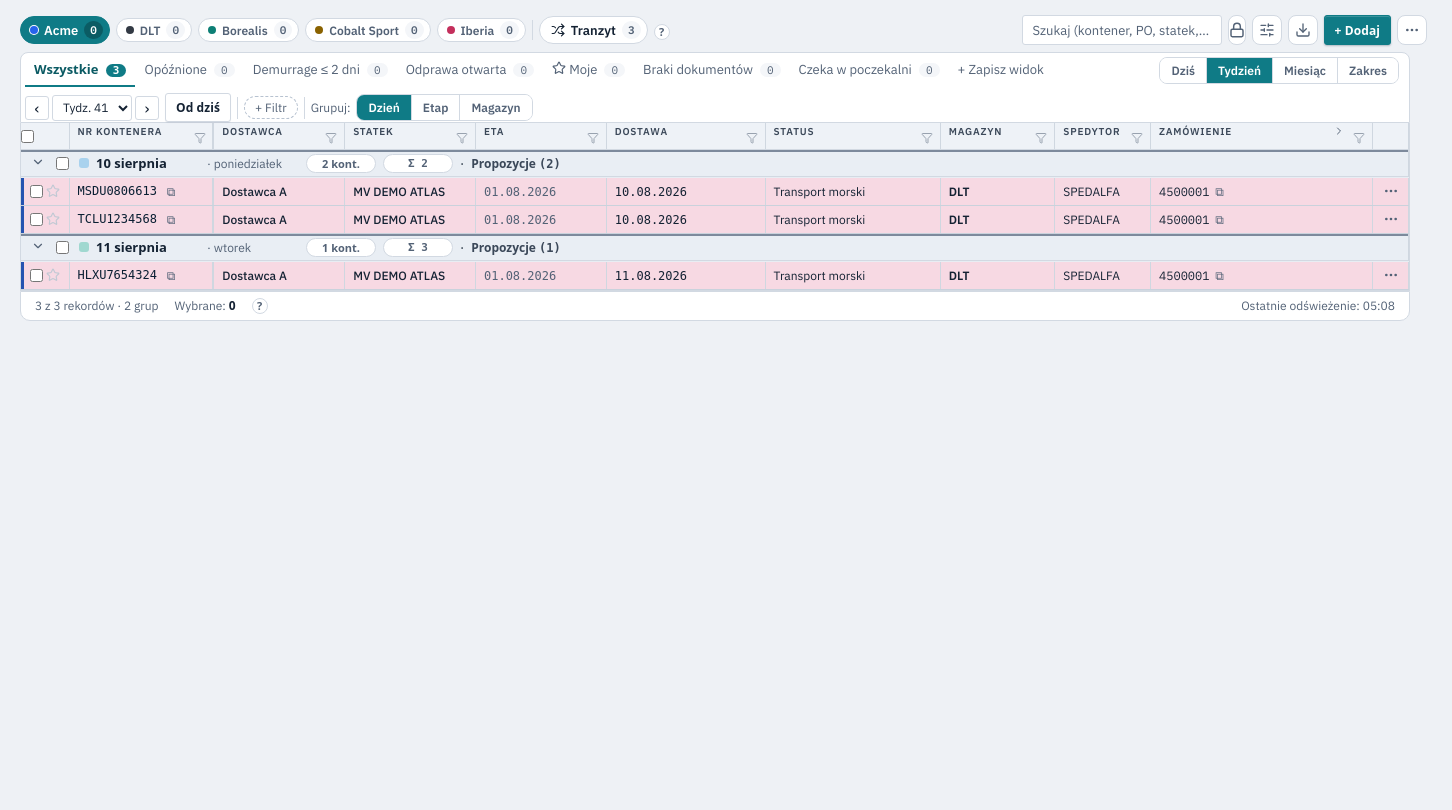
Test: szuflada kontenera › klik w wiersz otwiera szufladę; ‹ › idą po kolejności wierszy; ✕ zamyka
Click the text "TCLU1234568": (117, 219) [78, 212, 157, 226]
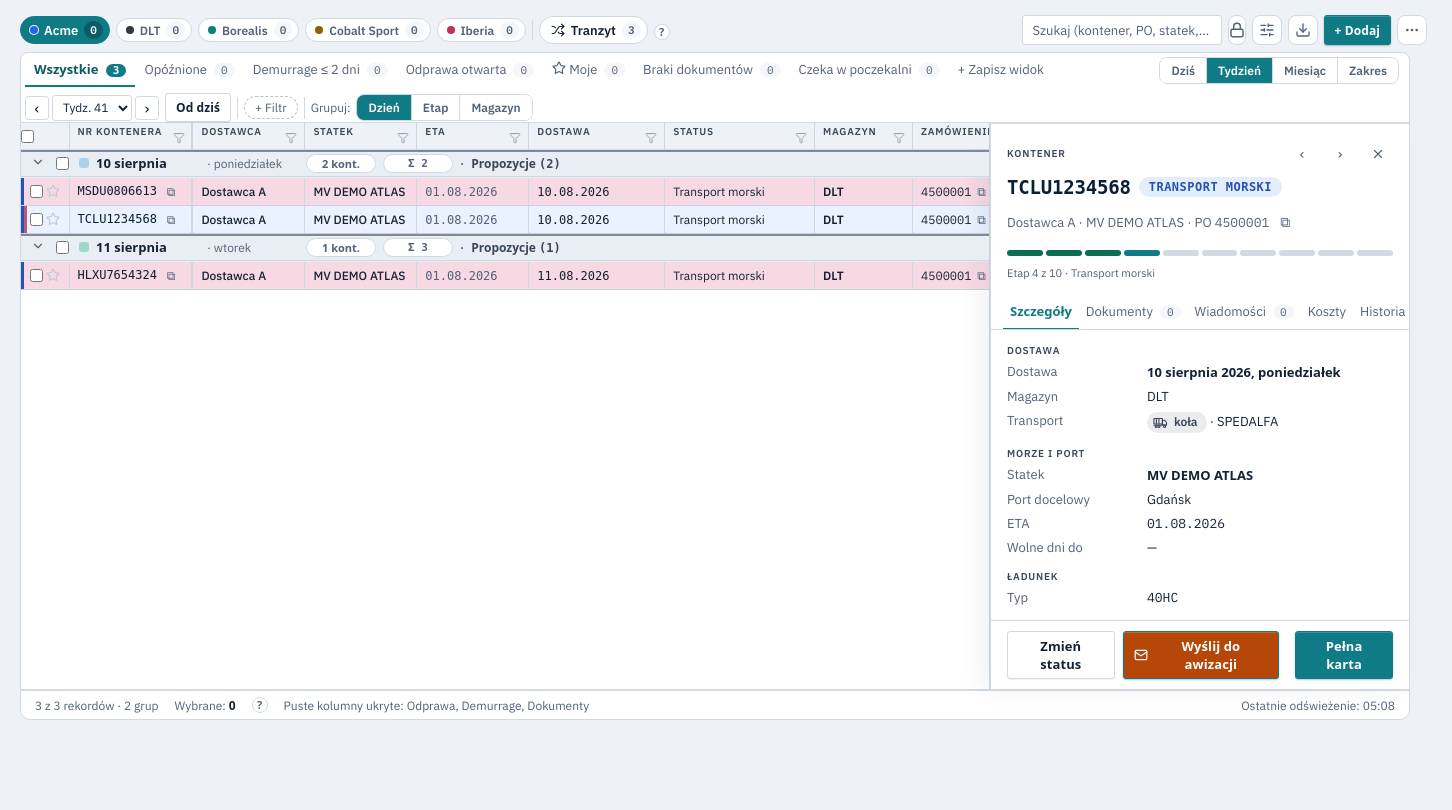
Expected: the text "Port docelowy" is shown, [1007, 491, 1090, 508]
Expected: the element showing "koła · SPEDALFA" is shown, [1147, 412, 1278, 433]
Click the button named "Następny kontener": (1340, 153) [1325, 138, 1355, 168]
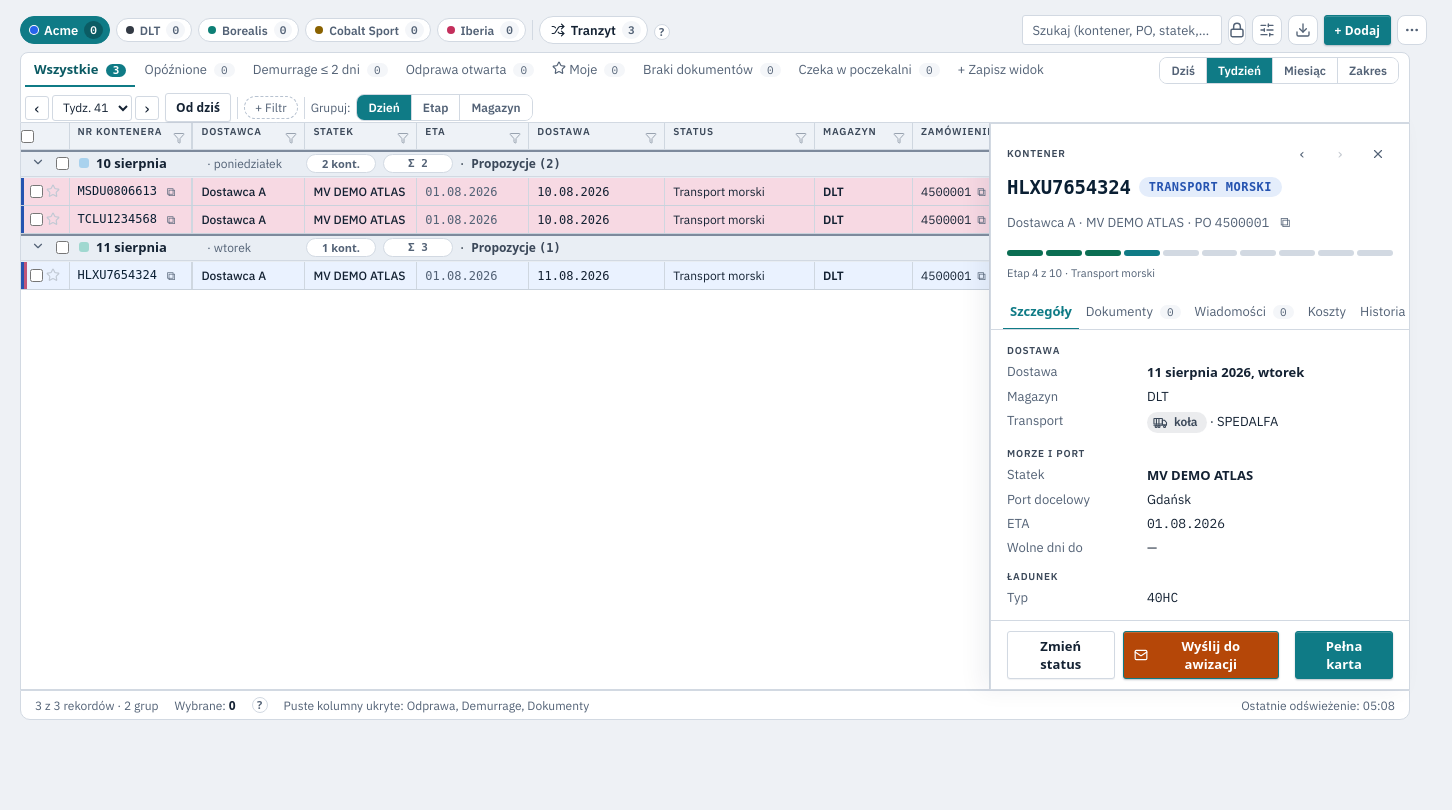
Expected: the text "HLXU7654324" in the row of "11.08.2026" is shown, [78, 268, 157, 282]
Click the button named "Poprzedni kontener": (1302, 153) [1287, 138, 1317, 168]
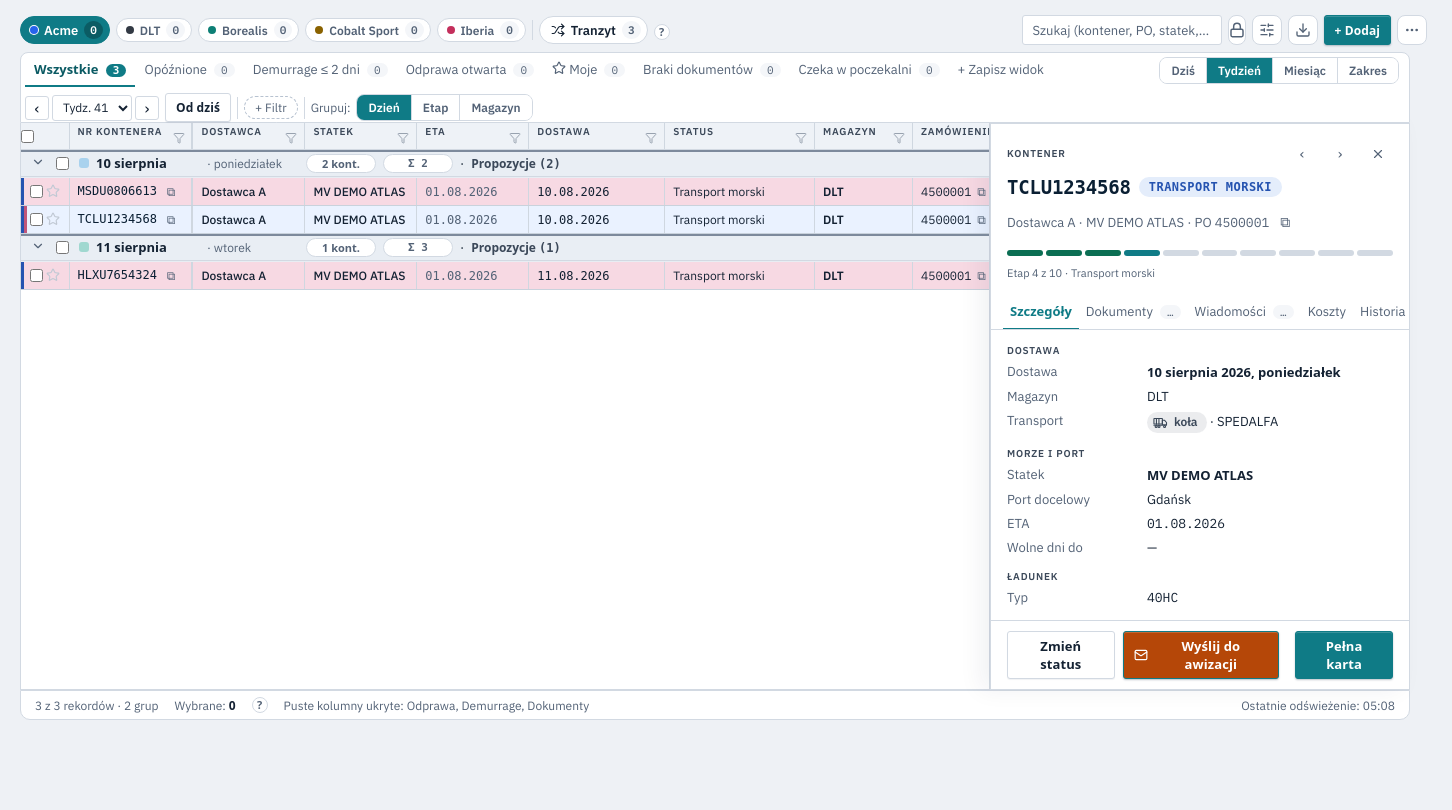
Click the button named "Poprzedni kontener": (1302, 153) [1287, 138, 1317, 168]
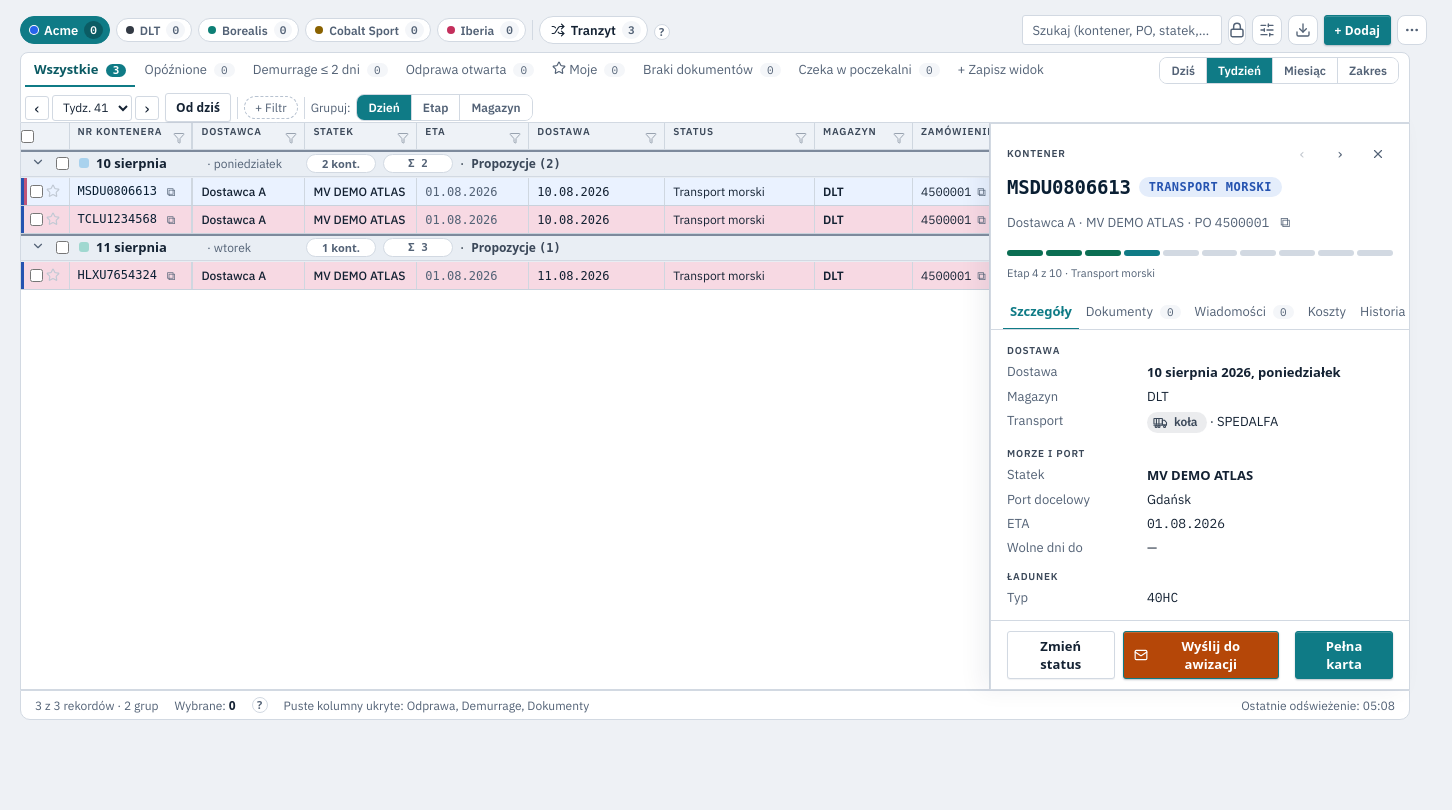
Expected: the text "MSDU0806613" below "2 kont." is shown, [78, 184, 157, 198]
Click the button named "Zamknij": (1378, 153) [1363, 138, 1393, 168]
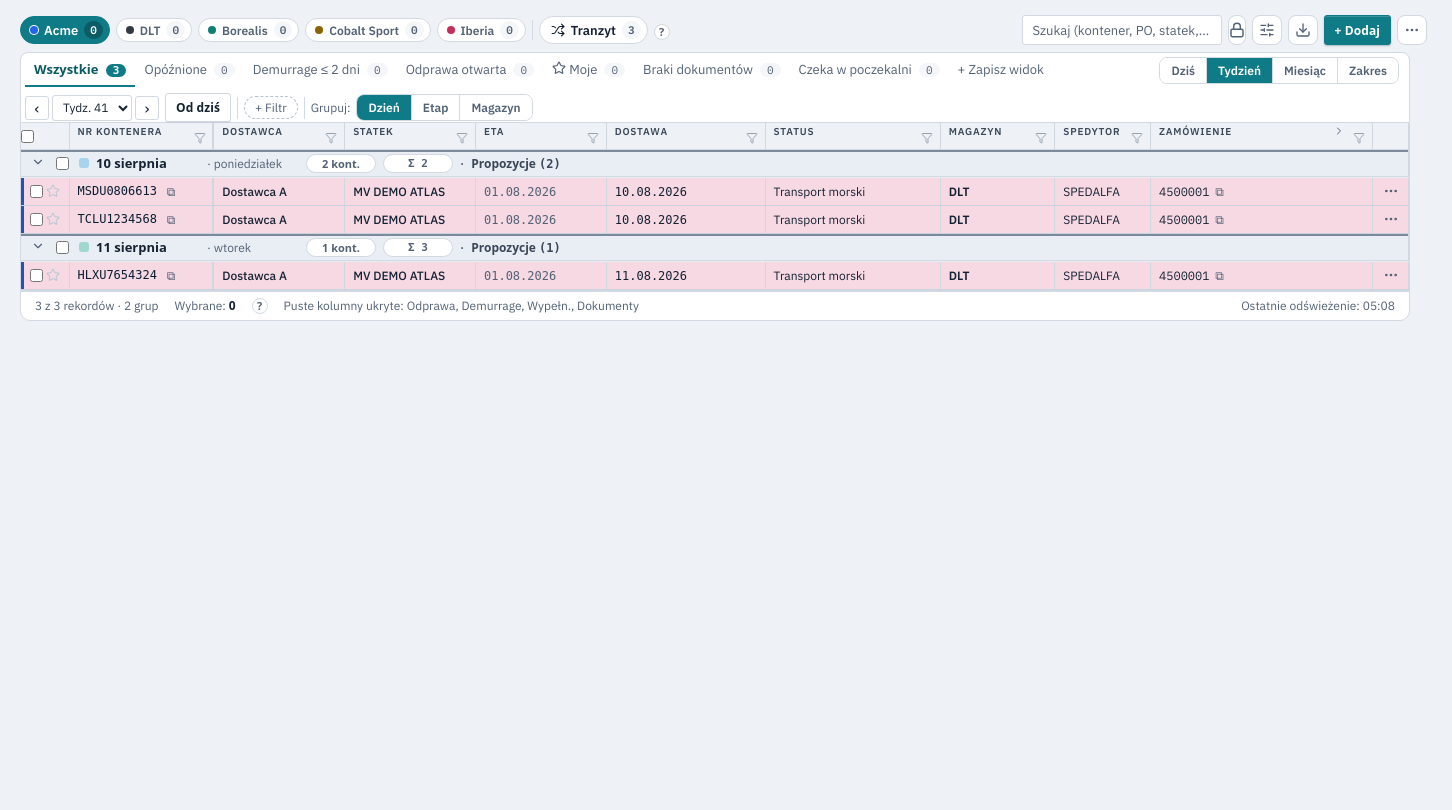
Expected: the element with class "kq-drawer" is gone
